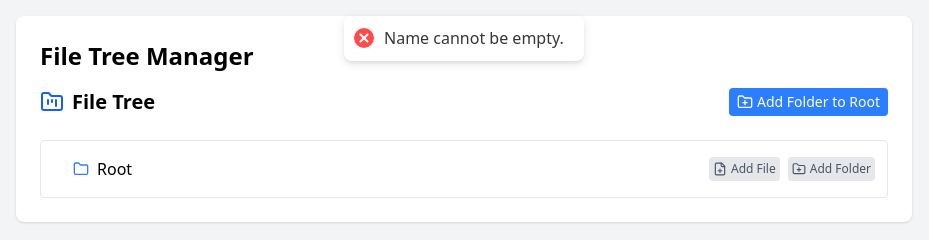
Test: Validation Rules › should show an error when adding a folder with forbidden characters
Click the button "Add Folder to Root".
click(808, 102)  # box left=729, top=88, right=888, bottom=116
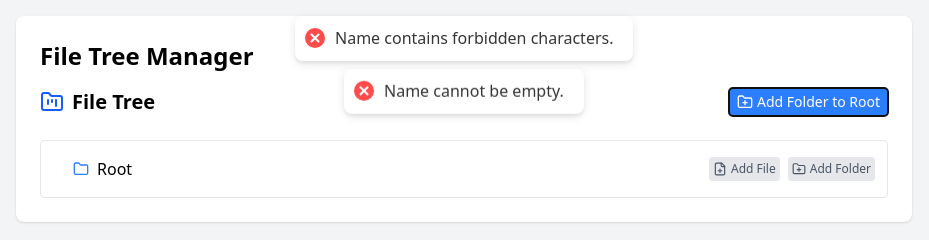
Expected: the text "Name contains forbidden characters." is shown, left=335, top=28, right=613, bottom=49
